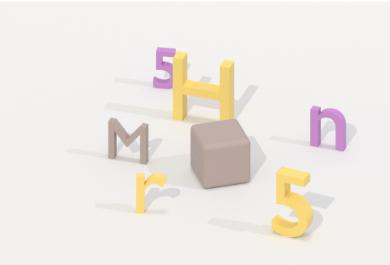0-KhoiVuong: (187, 115, 256, 194)
5: (267, 163, 319, 241), (152, 42, 179, 92)
H: (170, 46, 238, 127)
M: (104, 114, 152, 168)
n: (307, 102, 351, 155)
r: (132, 168, 170, 219)
